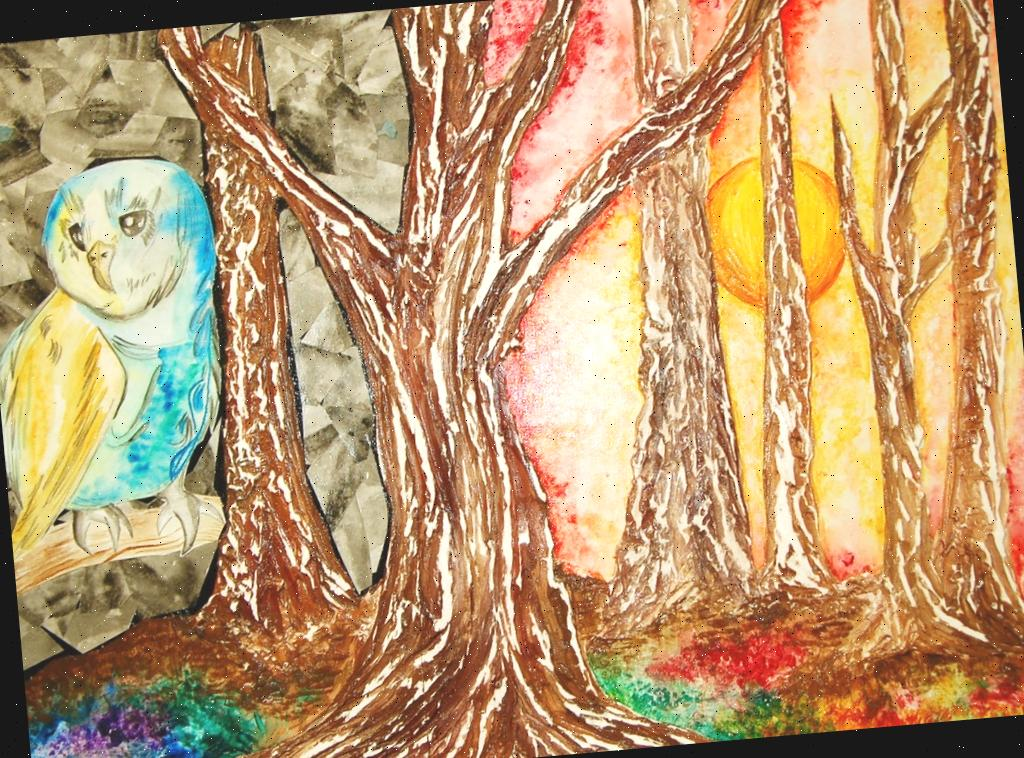Owl: (0, 153, 244, 573)
